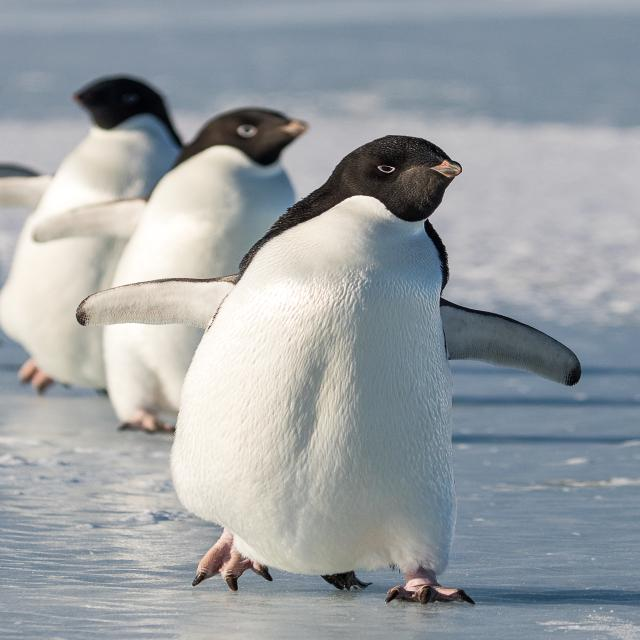Penguins: (160, 115, 548, 614), (126, 99, 322, 460), (19, 60, 202, 407)
